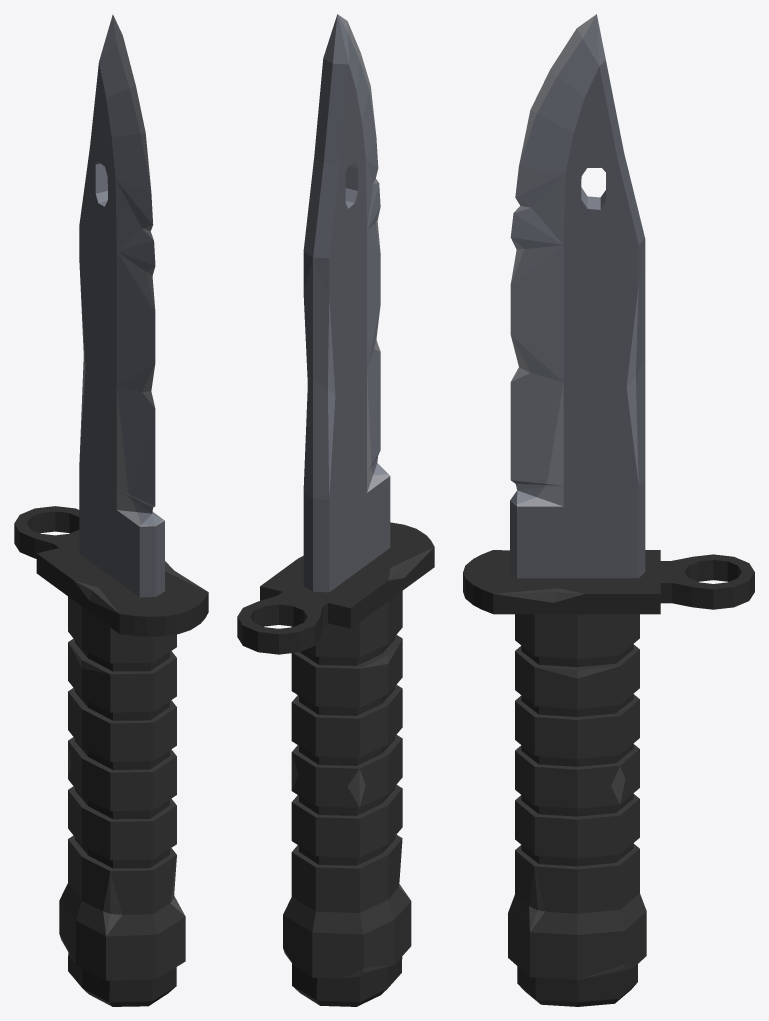
The model's file is mesh_bayonet.fbx.
3 renders of one model, left to right at view 1: azimuth 30°, elevation 25°; view 2: azimuth 150°, elevation 25°; view 3: azimuth 270°, elevation 25°, orthographic.
Visible parts, largest first — view 1: mesh_bayonet; view 2: mesh_bayonet; view 3: mesh_bayonet.
Boxes of the visible parts, x1,y1,x2,y2 form: mesh_bayonet: (14, 14, 208, 1006); mesh_bayonet: (237, 14, 434, 1006); mesh_bayonet: (463, 14, 754, 1006).
Bounding box in the file's own units: 0.0587 × 0.5776 × 0.1563.
